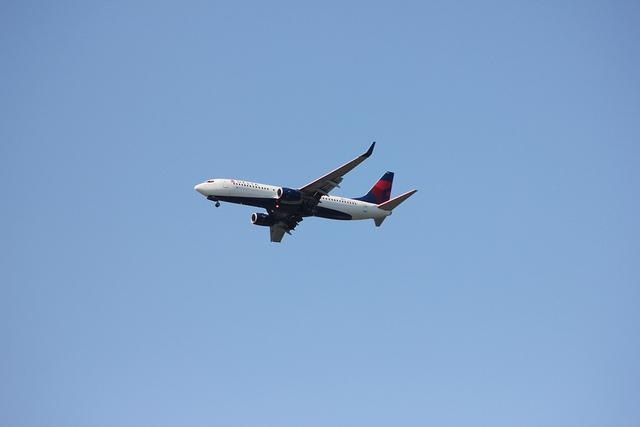airplane: (192, 136, 425, 244)
